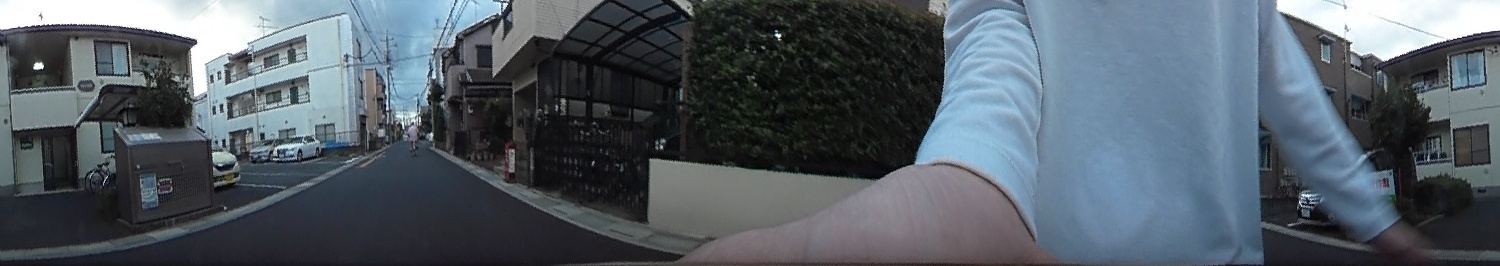difficult_person: (405, 118, 421, 151)
